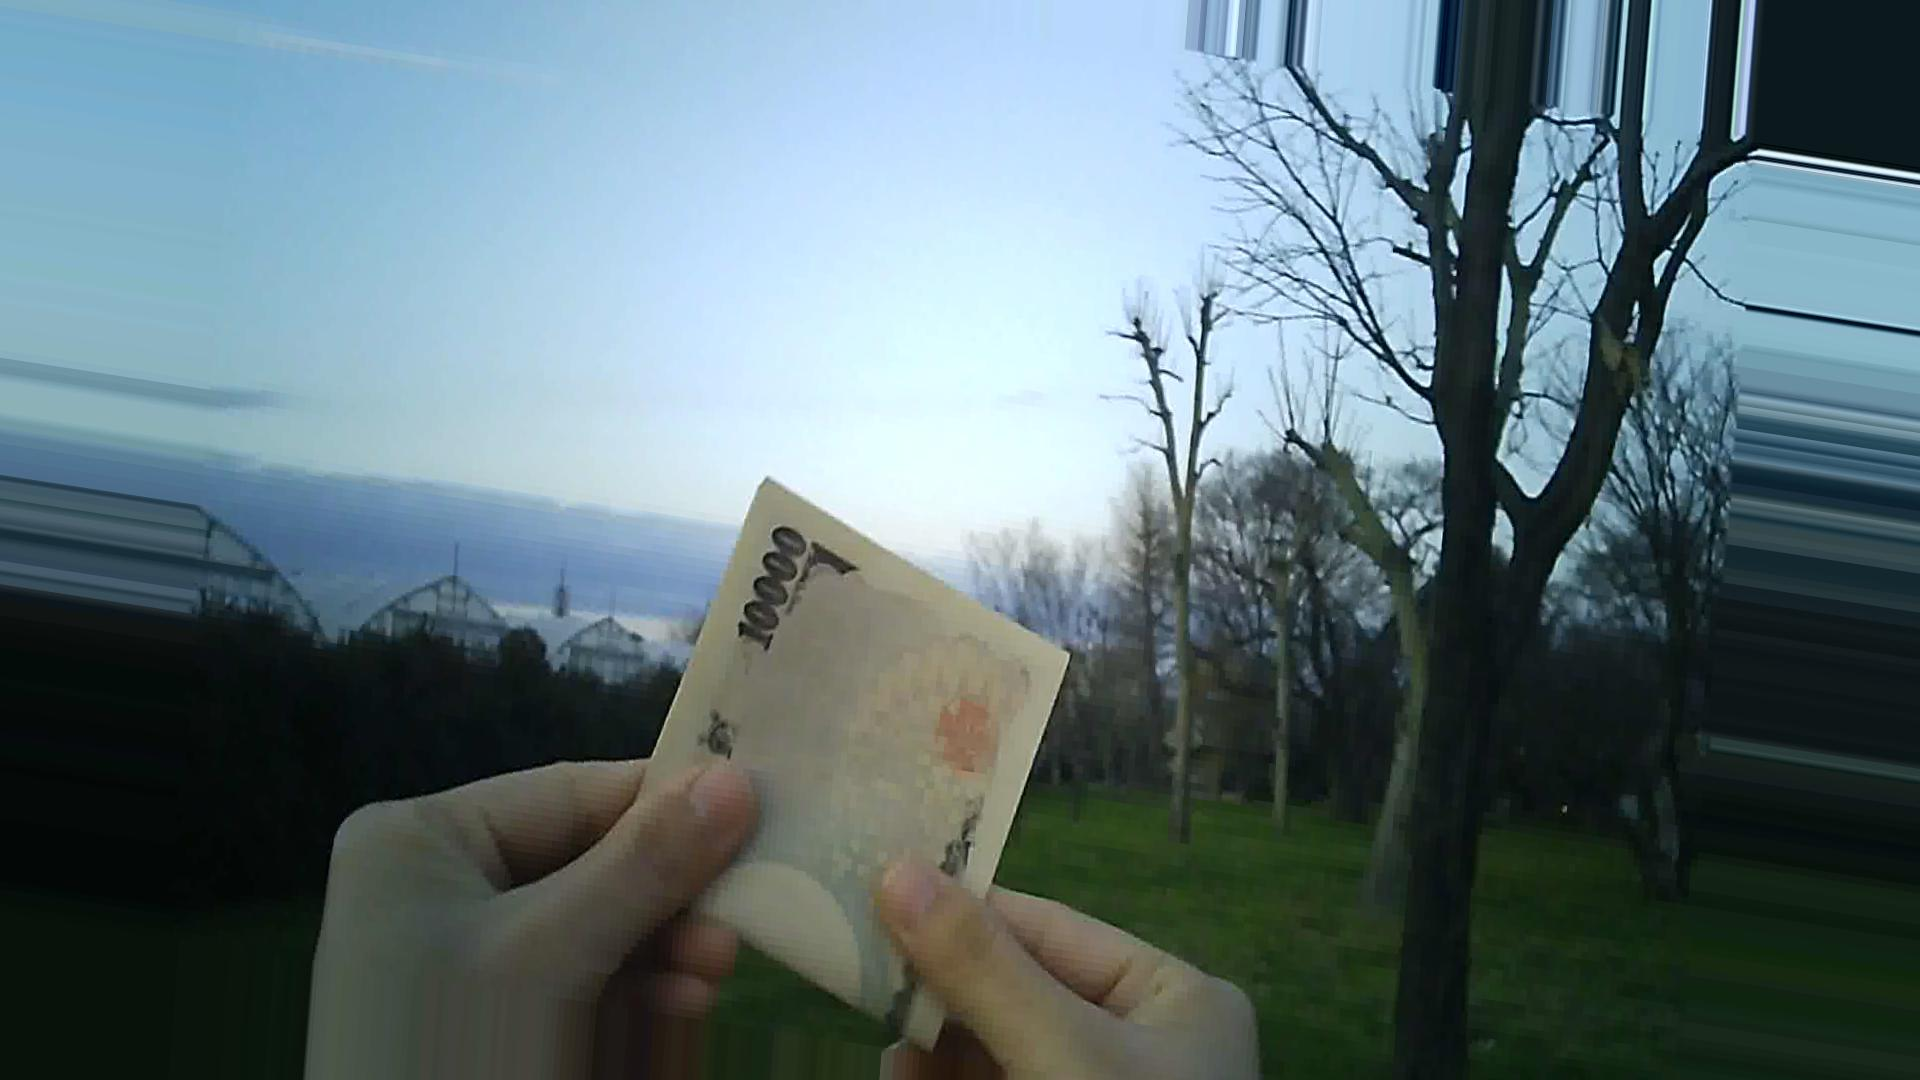10,000 Yen: (607, 471, 1112, 1079)
